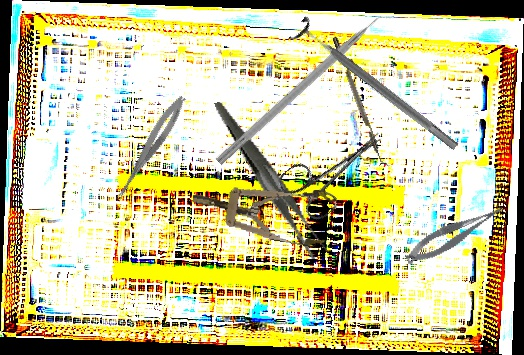Chopper: (215, 5, 400, 175), (332, 34, 391, 170)
Dressing Forceps: (214, 84, 329, 274)
Fixation Ring: (287, 14, 466, 160)
Iris Scissors: (274, 110, 399, 228)
Micro Scissor: (111, 92, 190, 207), (400, 201, 510, 269)
Speculum: (188, 169, 337, 250)
